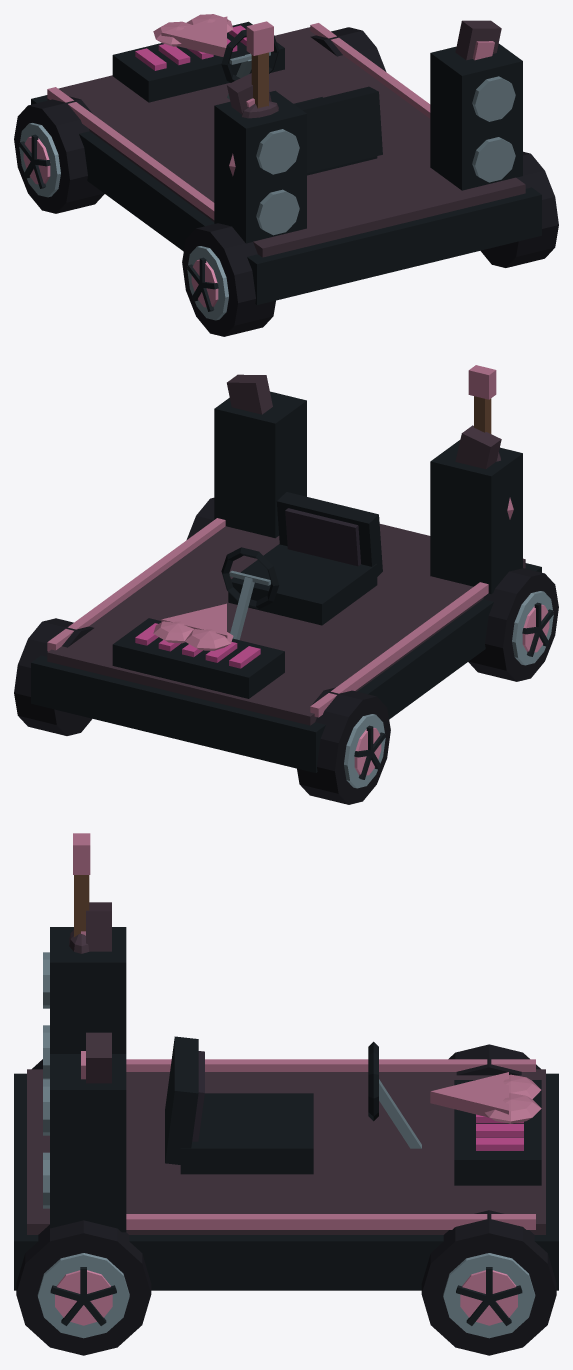
Rendered from kart.glb.
3 renders of one model, top to bottom at view 1: azimuth 30°, elevation 25°; view 2: azimuth 150°, elevation 25°; view 3: azimuth 270°, elevation 25°, orthographic. The views are drawn at different scales.
Parts seen in each view (by area): view 1: identity-stage-stage-platform-and-pa-towers, wheel-front-left, wheel-rear-left, identity-stage-driver-cockpit, wheel-rear-right, identity-stage-motif-ears, identity-stage-motif-heart, identity-stage-motif-guitar, wheel-front-right; view 2: identity-stage-stage-platform-and-pa-towers, identity-stage-driver-cockpit, wheel-front-left, wheel-rear-left, wheel-front-right, identity-stage-motif-ears, identity-stage-motif-heart, identity-stage-motif-guitar; view 3: identity-stage-stage-platform-and-pa-towers, identity-stage-driver-cockpit, wheel-front-right, wheel-rear-right, identity-stage-motif-heart, identity-stage-motif-ears, identity-stage-motif-guitar, wheel-front-left.
Boxes of the visible parts, left/top/right/bottom form: identity-stage-stage-platform-and-pa-towers: left=31, top=21, right=541, bottom=304; wheel-front-left: left=14, top=96, right=104, bottom=213; wheel-rear-left: left=182, top=223, right=275, bottom=336; identity-stage-driver-cockpit: left=221, top=29, right=382, bottom=175; wheel-rear-right: left=480, top=151, right=558, bottom=267; identity-stage-motif-ears: left=227, top=20, right=501, bottom=114; identity-stage-motif-heart: left=153, top=14, right=233, bottom=56; identity-stage-motif-guitar: left=229, top=21, right=278, bottom=176; wheel-front-right: left=310, top=27, right=386, bottom=71; identity-stage-stage-platform-and-pa-towers: left=31, top=391, right=541, bottom=772; identity-stage-driver-cockpit: left=221, top=492, right=382, bottom=639; wheel-front-left: left=297, top=687, right=390, bottom=804; wheel-rear-left: left=468, top=568, right=558, bottom=681; wheel-front-right: left=14, top=618, right=93, bottom=735; identity-stage-motif-ears: left=227, top=374, right=501, bottom=469; identity-stage-motif-heart: left=153, top=603, right=233, bottom=650; identity-stage-motif-guitar: left=468, top=365, right=513, bottom=519; identity-stage-stage-platform-and-pa-towers: left=14, top=927, right=558, bottom=1290; identity-stage-driver-cockpit: left=165, top=1036, right=421, bottom=1174; wheel-front-right: left=421, top=1210, right=556, bottom=1355; wheel-rear-right: left=16, top=1220, right=151, bottom=1355; identity-stage-motif-heart: left=430, top=1072, right=541, bottom=1123; identity-stage-motif-ears: left=81, top=902, right=111, bottom=1083; identity-stage-motif-guitar: left=69, top=833, right=90, bottom=953; wheel-front-left: left=448, top=1044, right=540, bottom=1075.
Size of the model in its own units: 2.16 by 1.8 by 2.5.
